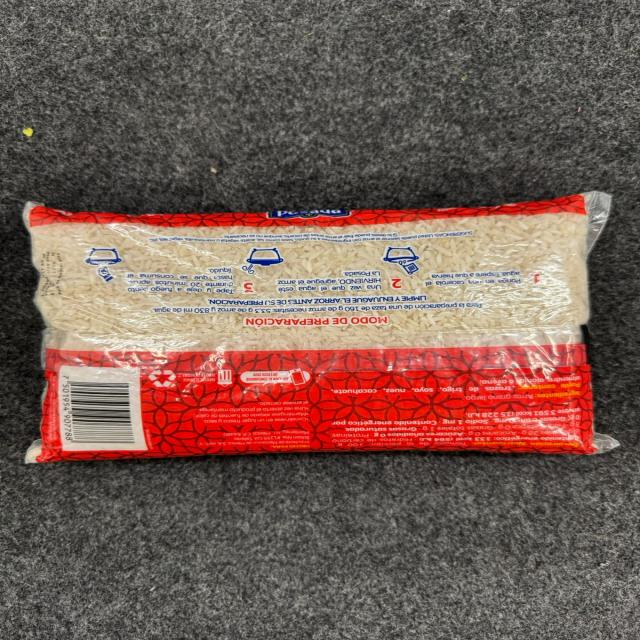Arroz La Posada 900 gr: (21, 200, 624, 464)
